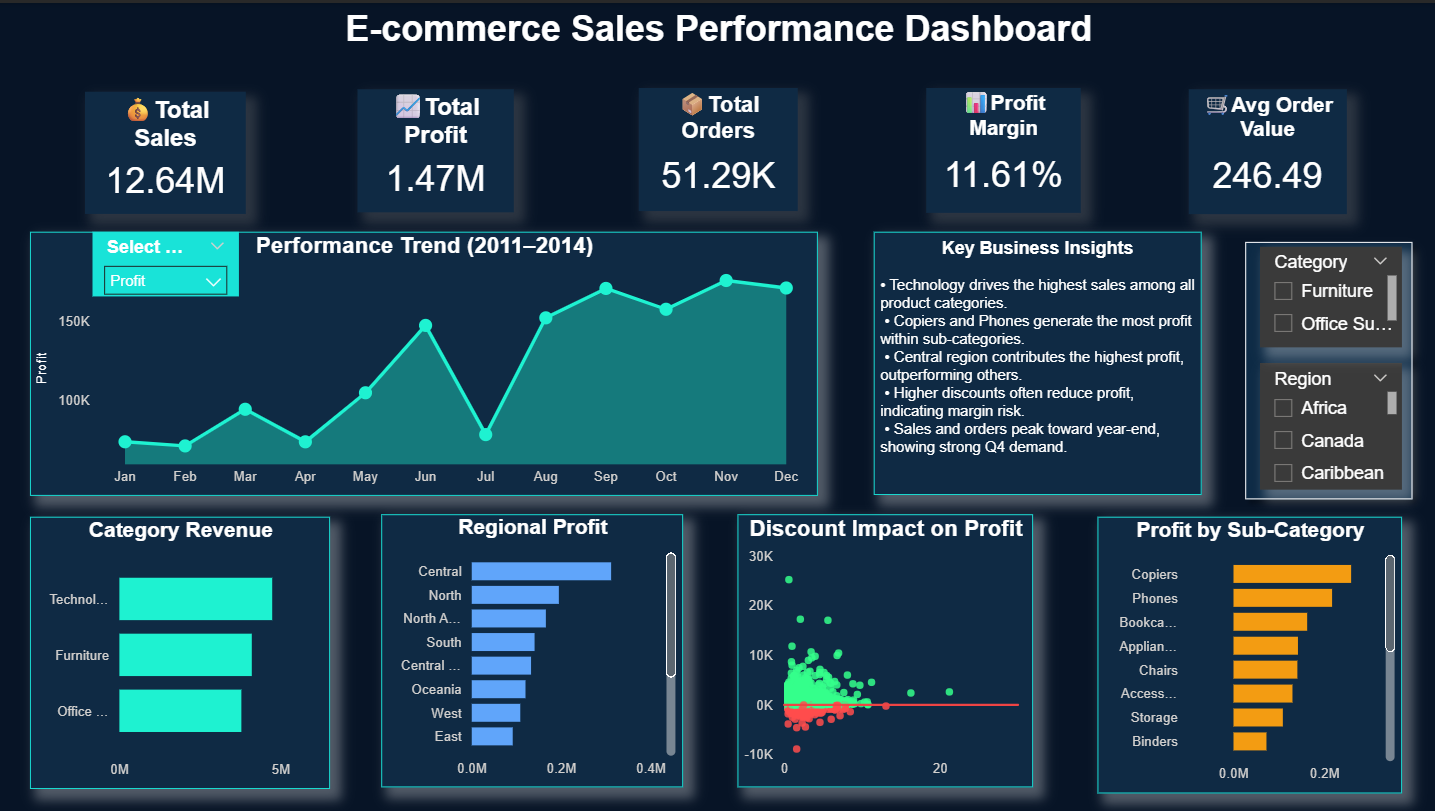

The dashboard page shown, as its layout file describes it:
{"tool":"powerbi","page":{"name":"Page 1","canvas":[1280,720],"ordinal":0},"visuals":[{"type":"shape","box":[1100,203.9,167.1,247.4],"z":500},{"type":"card","title":"💰Total Sales","fields":{"Values":["DateTable.Total Sales"]},"box":[75.1,79.3,143.3,108.5],"z":1000},{"type":"card","title":"📈Total Profit","fields":{"Values":["Sum(Global_Superstore2.Profit)"]},"box":[318.7,76.5,139.2,109.9],"z":2000},{"type":"card","title":"📦Total Orders","fields":{"Values":["CountNonNull(Global_Superstore2.Order ID)"]},"box":[569.2,75.1,141.9,109.9],"z":3000},{"type":"card","title":"📊Profit Margin","fields":{"Values":["Global_Superstore2.Profit Margin"]},"box":[825.2,75.1,137.8,111.3],"z":4000},{"type":"card","title":"🛒Avg Order Value","fields":{"Values":["Global_Superstore2.Avg Order Value"]},"box":[1059,76.5,140.6,111.3],"z":5000},{"type":"lineChart","title":"Performance Trend (2011–2014)","fields":{"Y":["DateTable.Total Profit"],"Category":["DateTable.MonthShort"]},"box":[26.3,203.9,701.3,235.5],"z":6000},{"type":"clusteredBarChart","title":"Category Revenue","fields":{"Category":["Global_Superstore2.Category"],"Y":["Sum(Global_Superstore2.Sales)"]},"box":[26.3,457.9,267.1,242.1],"z":7000},{"type":"clusteredBarChart","title":"Profit by Sub-Category","fields":{"Category":["Global_Superstore2.Sub-Category"],"Y":["Sum(Global_Superstore2.Profit)"]},"box":[977.6,457.9,271.1,246.1],"z":8000},{"type":"textbox","box":[0,0,1280.3,60.5],"z":9000},{"type":"scatterChart","title":"Discount Impact on Profit","fields":{"X":["Sum(Global_Superstore2.Discount)"],"Y":["Sum(Global_Superstore2.Profit)"],"Category":["Global_Superstore2.Product Name"]},"box":[656.6,455.3,263.2,243.4],"z":10000},{"type":"clusteredBarChart","title":"Regional Profit","fields":{"Y":["Sum(Global_Superstore2.Profit)"],"Category":["Global_Superstore2.Region"]},"box":[339.5,455.3,268.4,243.4],"z":11000},{"type":"slicer","fields":{"Values":["Global_Superstore2.Region"]},"box":[1122.4,321.1,126.3,113.2],"z":12000},{"type":"slicer","fields":{"Values":["Global_Superstore2.Category"]},"box":[1122.4,217.1,126.3,89.5],"z":13000},{"type":"textbox","box":[777.6,203.9,292.1,234.2],"z":14000},{"type":"slicer","fields":{"Values":["Metric Selector.Metric Selector"]},"box":[82.9,203.9,130.3,57.9],"z":15000}]}

Visuals, with their boxes in screenshot pixels (x1, y1, x2, y2), scaled from the page's 1280x720 canvas onto the 1435x811 screenshot:
shape: box=[1233, 230, 1421, 508]
"💰Total Sales" card: box=[84, 89, 245, 212]
"📈Total Profit" card: box=[357, 86, 513, 210]
"📦Total Orders" card: box=[638, 85, 797, 208]
"📊Profit Margin" card: box=[925, 85, 1080, 210]
"🛒Avg Order Value" card: box=[1187, 86, 1345, 212]
"Performance Trend (2011–2014)" lineChart: box=[29, 230, 816, 495]
"Category Revenue" clusteredBarChart: box=[29, 516, 329, 788]
"Profit by Sub-Category" clusteredBarChart: box=[1096, 516, 1400, 793]
textbox: box=[0, 0, 1434, 68]
"Discount Impact on Profit" scatterChart: box=[736, 513, 1031, 787]
"Regional Profit" clusteredBarChart: box=[381, 513, 682, 787]
slicer - Global_Superstore2.Region: box=[1258, 362, 1400, 489]
slicer - Global_Superstore2.Category: box=[1258, 245, 1400, 345]
textbox: box=[872, 230, 1199, 493]
slicer - Metric Selector.Metric Selector: box=[93, 230, 239, 295]
